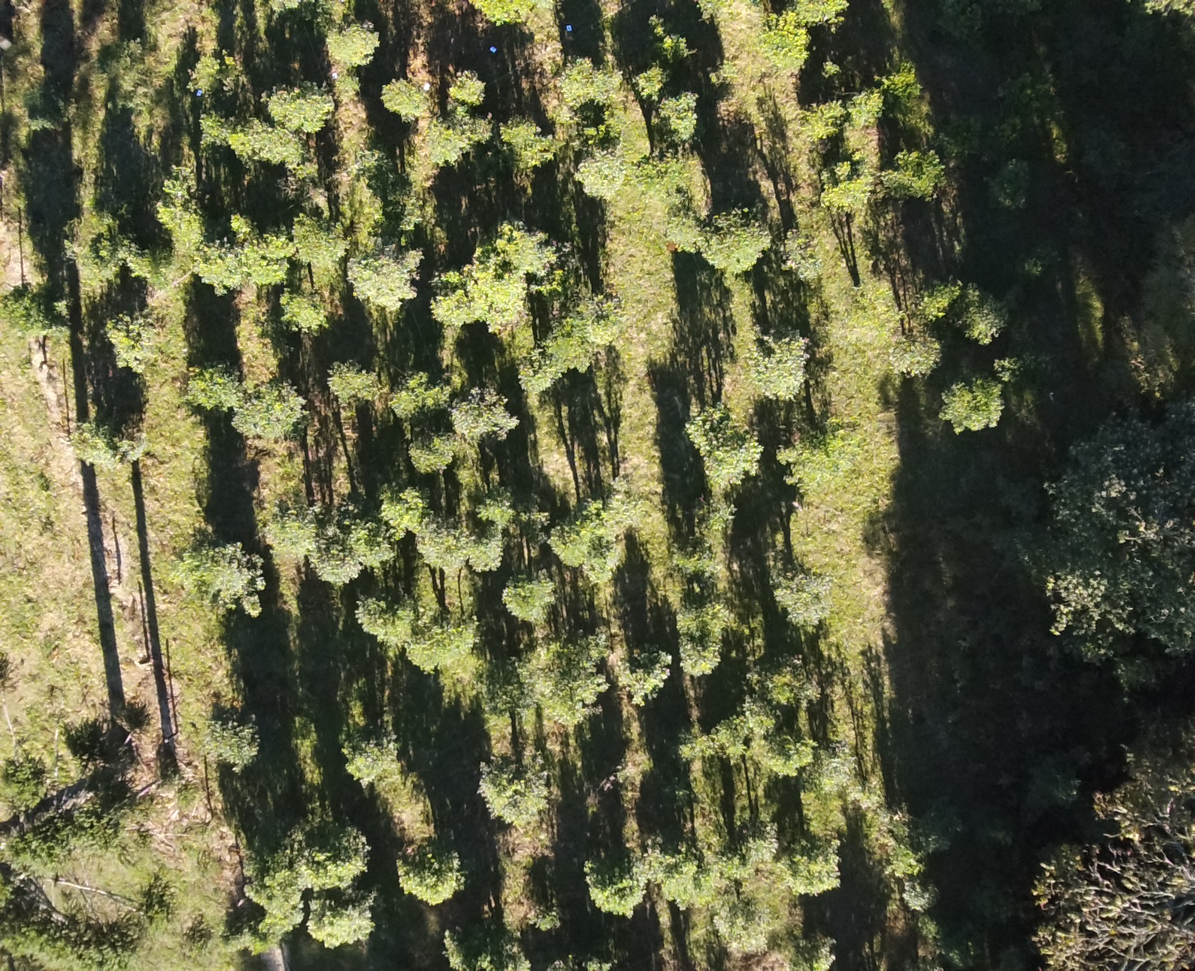erva: (679, 399, 764, 486), (191, 539, 272, 623), (384, 834, 474, 908), (284, 818, 370, 895), (349, 239, 433, 314), (732, 318, 809, 399), (462, 248, 530, 331), (935, 369, 1007, 440), (477, 752, 547, 825), (702, 902, 789, 960), (461, 506, 527, 582), (576, 846, 644, 919), (239, 856, 302, 932), (232, 214, 294, 291), (674, 587, 747, 649), (334, 716, 400, 784), (409, 609, 487, 665), (772, 208, 831, 282), (404, 521, 474, 583), (259, 79, 338, 133), (880, 150, 957, 205), (235, 384, 308, 441), (373, 472, 440, 534), (306, 893, 378, 950), (96, 305, 161, 366), (697, 214, 763, 274), (649, 851, 716, 910), (179, 351, 240, 414), (832, 262, 895, 322), (237, 128, 311, 179), (551, 63, 618, 119), (501, 114, 558, 179), (315, 19, 383, 71), (769, 568, 833, 623), (403, 424, 459, 486), (420, 270, 470, 339), (353, 591, 410, 651), (344, 509, 400, 570), (618, 645, 672, 708), (413, 124, 482, 173), (690, 705, 742, 769), (323, 351, 382, 406), (293, 217, 353, 271), (297, 537, 361, 586), (258, 489, 306, 553), (270, 289, 330, 340), (457, 388, 518, 438), (882, 331, 941, 382), (392, 364, 446, 419), (510, 350, 568, 399), (494, 220, 547, 272), (502, 565, 556, 616), (544, 310, 595, 364), (577, 143, 625, 200), (813, 164, 867, 214), (545, 509, 588, 569), (189, 238, 240, 288), (381, 74, 440, 117), (740, 689, 777, 757), (793, 100, 847, 146), (630, 825, 670, 886), (736, 820, 780, 875), (766, 728, 819, 769), (482, 483, 527, 531), (659, 96, 707, 140), (192, 54, 246, 92), (444, 68, 494, 108), (435, 922, 472, 970), (802, 843, 845, 884), (633, 62, 677, 102), (210, 124, 255, 161), (676, 636, 717, 671), (496, 941, 540, 970)
